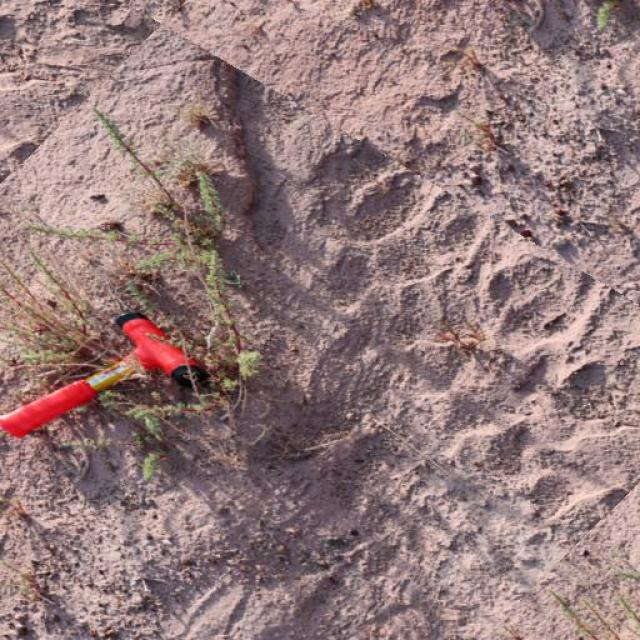mallet: (1, 310, 211, 440)
